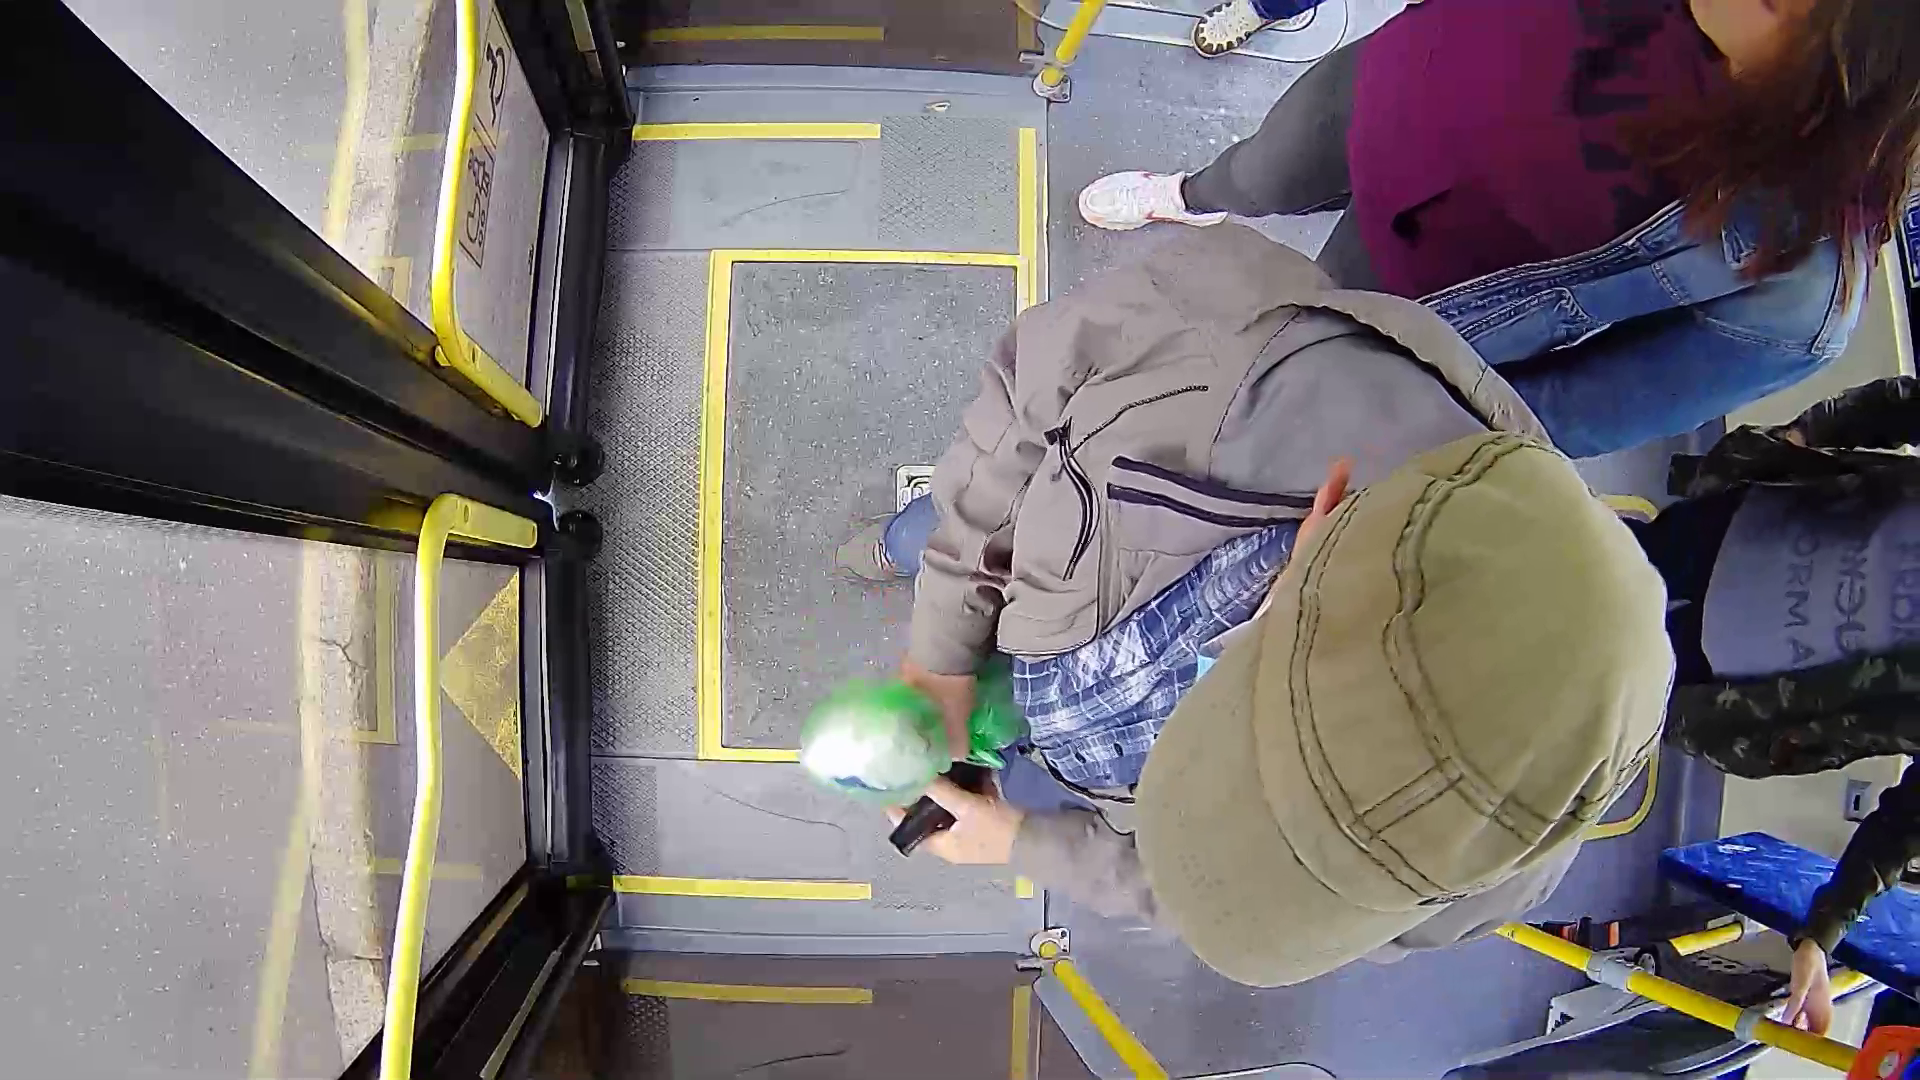person: (874, 233, 1770, 960)
